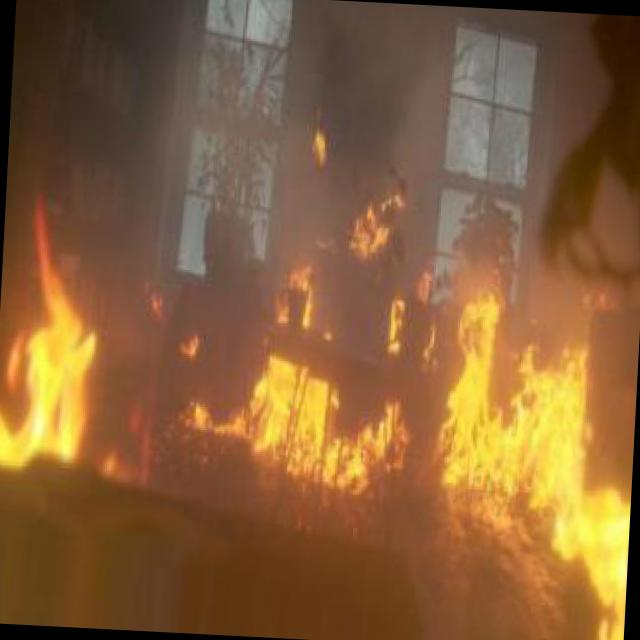fire: (420, 275, 640, 640), (237, 258, 412, 528), (342, 176, 406, 270), (298, 92, 334, 173), (146, 270, 174, 332), (175, 328, 207, 372)
